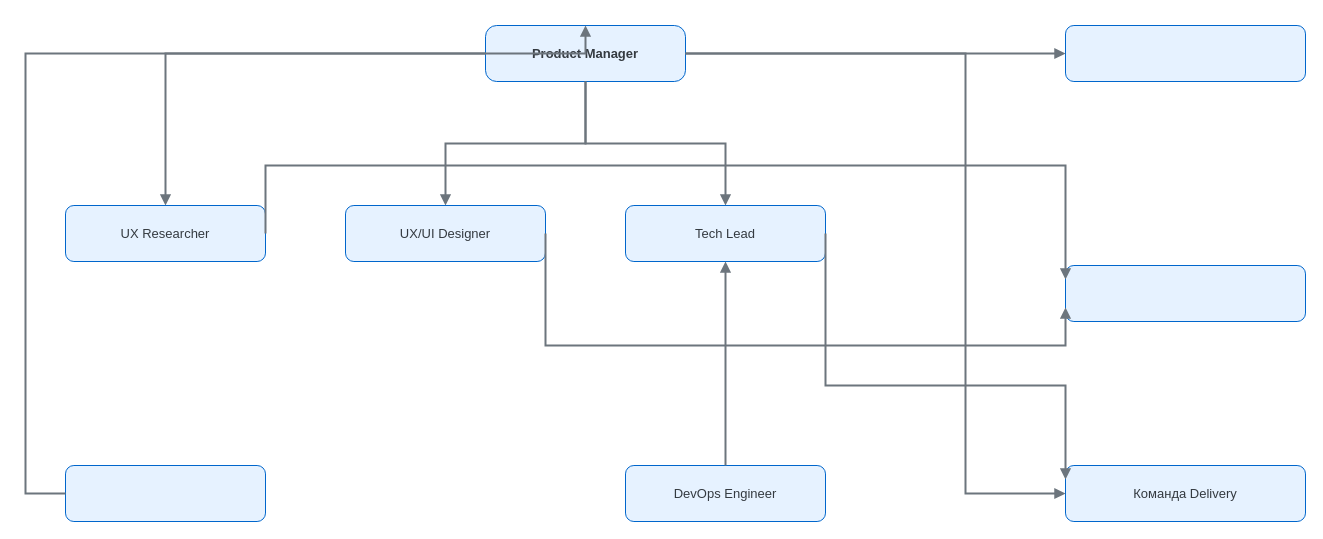
This 1323x539 diagram has some shape labels left out. The centre of each missing label's shape, as x and y in pixels:
Business Owner: [1185,53]
Data Analyst: [165,493]
Пользователи: [1185,293]
